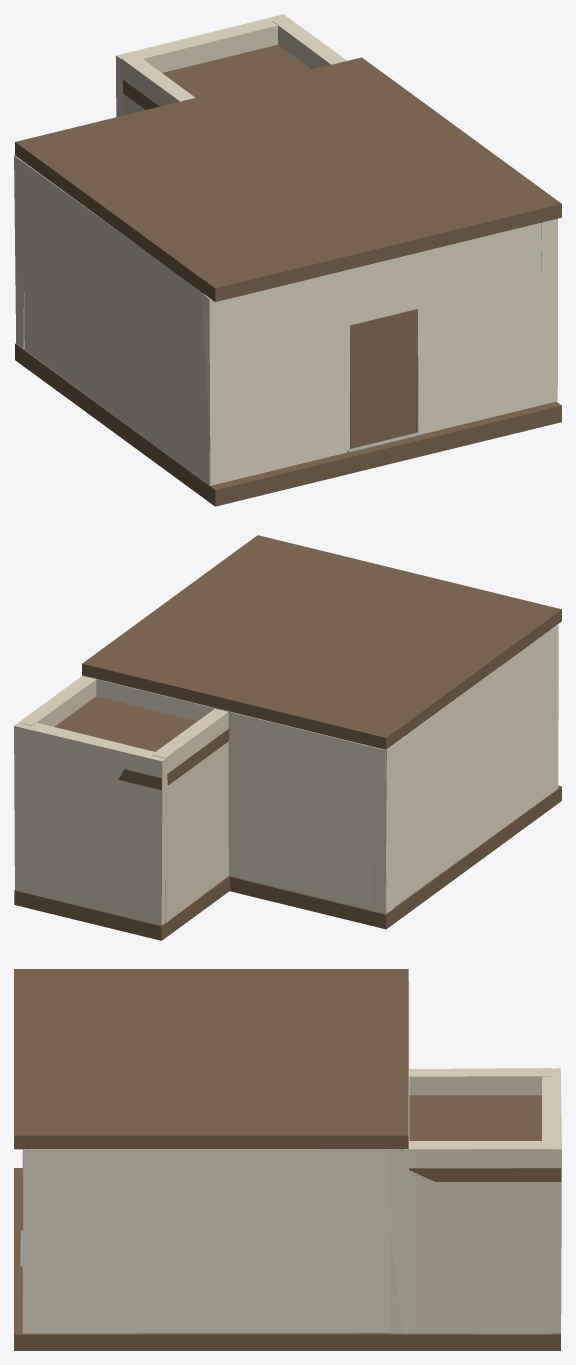
The model's file is int_shop.glb.
3 renders of one model, top to bottom at view 1: azimuth 30°, elevation 25°; view 2: azimuth 150°, elevation 25°; view 3: azimuth 270°, elevation 25°, orthographic. The views are drawn at different scales.
Parts seen in each view (by area): view 1: int_shop; view 2: int_shop; view 3: int_shop.
Boxes of the visible parts, x1,y1,x2,y2 form: int_shop: (14,14,561,506); int_shop: (14,535,561,940); int_shop: (14,969,561,1350).
Size of what is drawn, in the model's own units: 6.64 by 3.97 by 9.17.
